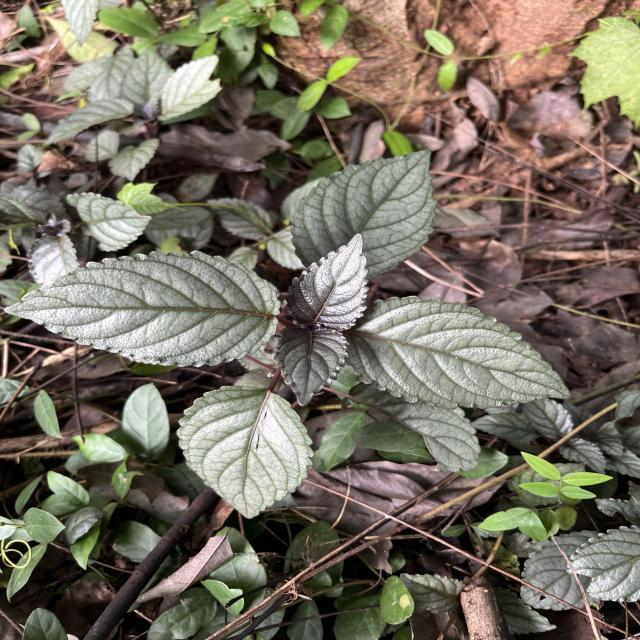Hemigraphis colorata: (2, 246, 287, 370), (346, 292, 576, 412), (287, 144, 440, 284), (174, 382, 318, 523), (284, 230, 373, 334), (272, 324, 351, 409)
